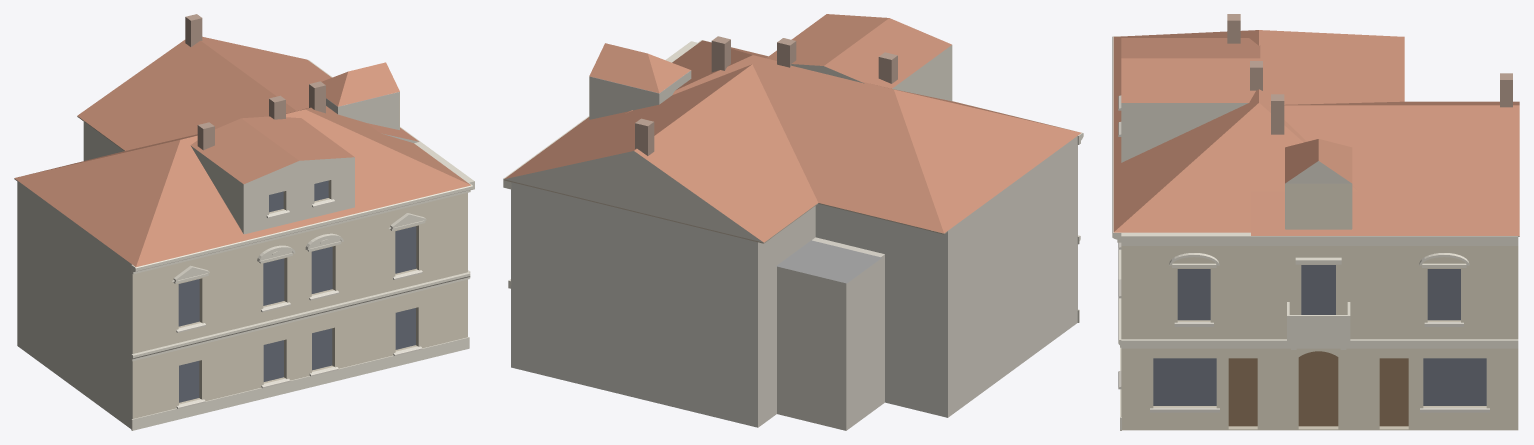
The picture shows the model from 3 angles, left to right: view 1: azimuth 30°, elevation 25°; view 2: azimuth 150°, elevation 25°; view 3: azimuth 270°, elevation 25°; orthographic projection. The views are drawn at different scales.
Visible parts, largest first — view 1: CP_449_Masonry, CP_449_Roof, CP_449_WingRoof_North, CP_449_Dormer_P, CP_449_Cornice_plinth_0, CP_449_Cornice_string_0, CP_449_Cornice_main_0, CP_449_WingRoof_StreetGable, CP_449_AtticClosure, CP_449_Chimney_3, CP_449_Cornice_street_main, CP_449_Chimney_2 (+1 smaller); view 2: CP_449_Masonry, CP_449_Roof, CP_449_WingRoof_North, CP_449_Annex_NW, CP_449_Dormer_P, CP_449_WingRoof_StreetGable, CP_449_WingRoof_Annex, CP_449_AtticClosure, CP_449_Annex_Fill_E, CP_449_Annex_Fill_S, CP_449_Chimney_3, CP_449_Chimney_2 (+1 smaller); view 3: CP_449_Masonry, CP_449_Roof, CP_449_WingRoof_North, CP_449_Dormer_P, CP_449_Cornice_street_main, CP_449_Cornice_street_string, CP_449_WingRoof_StreetGable, CP_449_StreetGable_Wall, CP_449_Balcony_Rail_F, CP_449_WingRoof_StreetGable_EaveClosure_0, CP_449_WingRoof_StreetGable_EaveClosure_2, CP_449_Chimney_2 (+5 smaller).
Boxes of the visible parts, x1,y1,x2,y2 form: CP_449_Masonry: (17, 122, 467, 428); CP_449_Roof: (14, 106, 470, 266); CP_449_WingRoof_North: (77, 36, 419, 150); CP_449_Dormer_P: (190, 116, 354, 234); CP_449_Cornice_plinth_0: (131, 337, 469, 430); CP_449_Cornice_string_0: (131, 272, 470, 361); CP_449_Cornice_main_0: (131, 182, 472, 274); CP_449_WingRoof_StreetGable: (321, 62, 399, 106); CP_449_AtticClosure: (326, 92, 413, 142); CP_449_Chimney_3: (185, 14, 202, 46); CP_449_Cornice_street_main: (308, 60, 474, 189); CP_449_Chimney_2: (309, 81, 325, 113); CP_449_Masonry: (511, 136, 1077, 427); CP_449_Roof: (625, 40, 1081, 233); CP_449_WingRoof_North: (504, 64, 818, 242); CP_449_Annex_NW: (784, 259, 880, 430); CP_449_Dormer_P: (766, 14, 952, 101); CP_449_WingRoof_StreetGable: (589, 43, 690, 93); CP_449_WingRoof_Annex: (776, 240, 881, 283); CP_449_AtticClosure: (590, 70, 691, 119); CP_449_Annex_Fill_E: (777, 266, 784, 415); CP_449_Annex_Fill_S: (812, 237, 884, 405); CP_449_Chimney_3: (635, 118, 654, 155); CP_449_Chimney_2: (711, 36, 730, 72); CP_449_Masonry: (1121, 246, 1518, 430); CP_449_Roof: (1113, 30, 1404, 232); CP_449_WingRoof_North: (1251, 101, 1519, 235); CP_449_Dormer_P: (1121, 38, 1260, 162); CP_449_Cornice_street_main: (1121, 232, 1518, 245); CP_449_Cornice_street_string: (1121, 339, 1518, 348); CP_449_WingRoof_StreetGable: (1285, 139, 1352, 183); CP_449_StreetGable_Wall: (1301, 183, 1335, 229); CP_449_Balcony_Rail_F: (1287, 315, 1350, 338); CP_449_WingRoof_StreetGable_EaveClosure_0: (1285, 183, 1301, 229); CP_449_WingRoof_StreetGable_EaveClosure_2: (1336, 183, 1351, 229); CP_449_Chimney_2: (1271, 94, 1284, 134).
Bounding box in the file's own units: 18.8 × 12 × 15.4.
